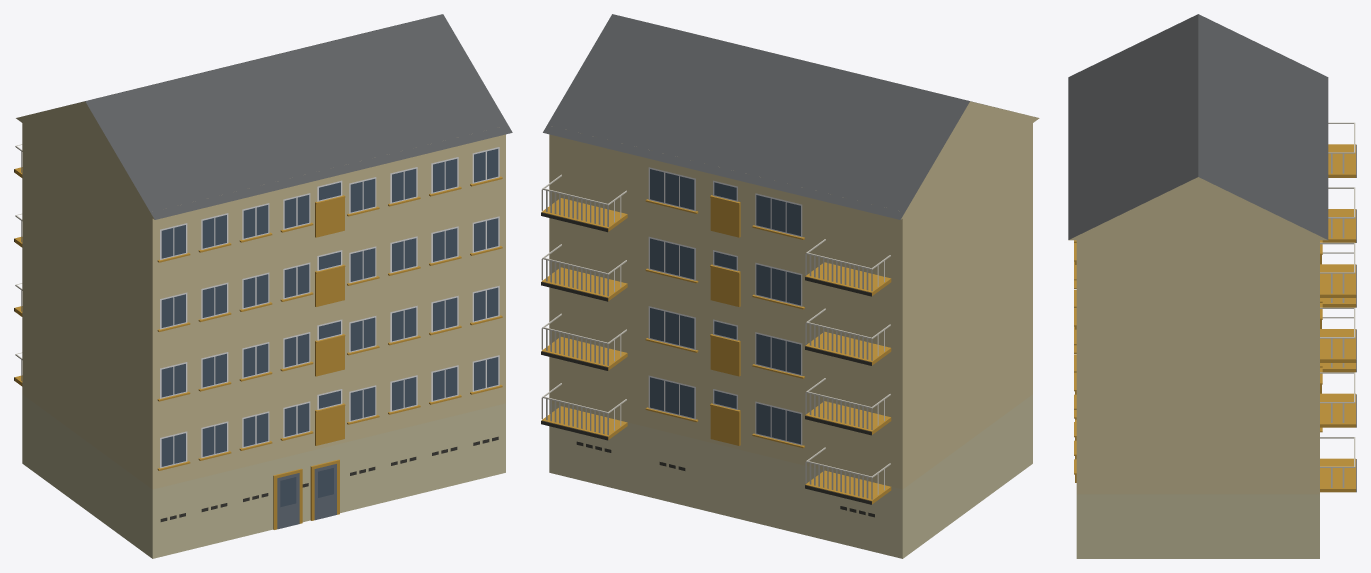
The model's file is nw-peach-render-entrance-front__ochre-yellow__5__gable__long__solid.glb.
The picture shows the model from 3 angles, left to right: view 1: azimuth 30°, elevation 25°; view 2: azimuth 150°, elevation 25°; view 3: azimuth 270°, elevation 25°; orthographic projection. The views are drawn at different scales.
Visible parts, largest first — view 1: nw-peach-render-entrance-front__ochre-yellow__5__gable__long; view 2: nw-peach-render-entrance-front__ochre-yellow__5__gable__long; view 3: nw-peach-render-entrance-front__ochre-yellow__5__gable__long.
Part boxes in pixels (x1=…): nw-peach-render-entrance-front__ochre-yellow__5__gable__long: x1=14, y1=14, x2=512, y2=558; nw-peach-render-entrance-front__ochre-yellow__5__gable__long: x1=541, y1=14, x2=1039, y2=558; nw-peach-render-entrance-front__ochre-yellow__5__gable__long: x1=1068, y1=14, x2=1356, y2=558.
Size of the model in its own units: 16.08 by 17.62 by 12.02.
